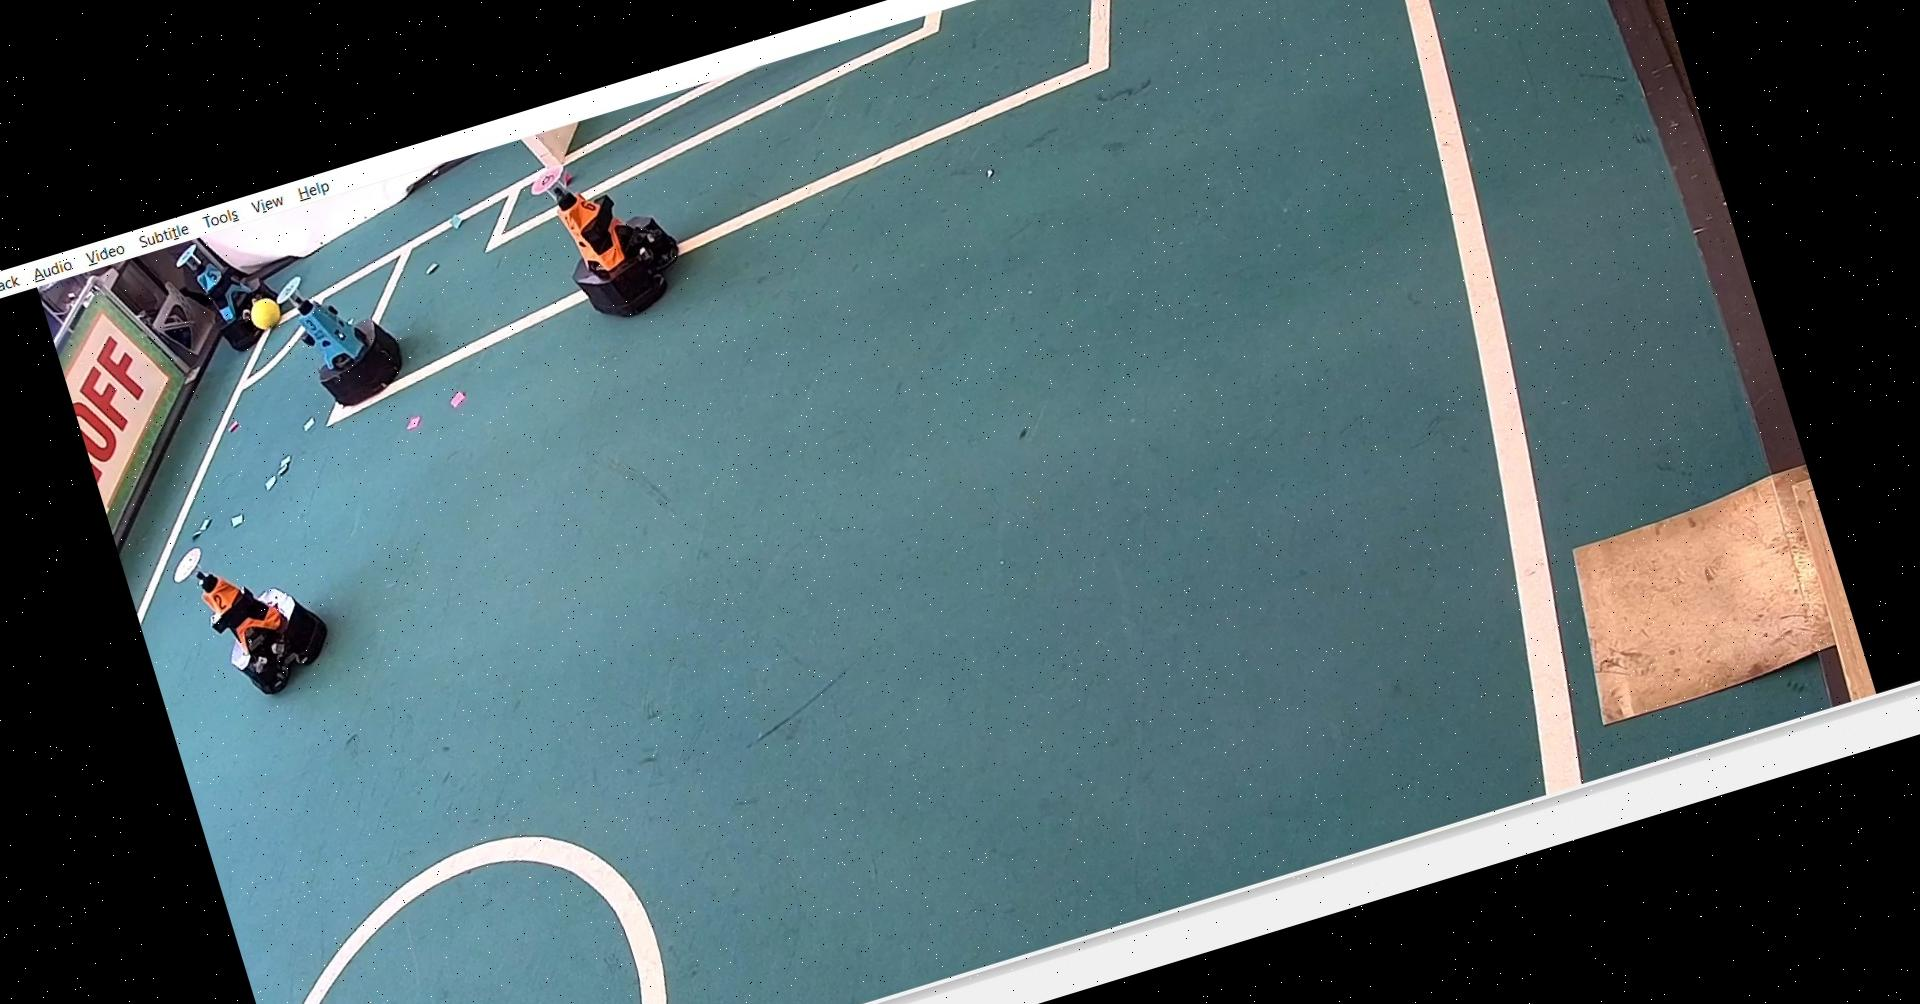Ball: (241, 287, 292, 338)
Team_Blue: (264, 245, 411, 418), (174, 228, 287, 355)
Team_Red: (522, 131, 701, 340), (163, 509, 345, 712)
